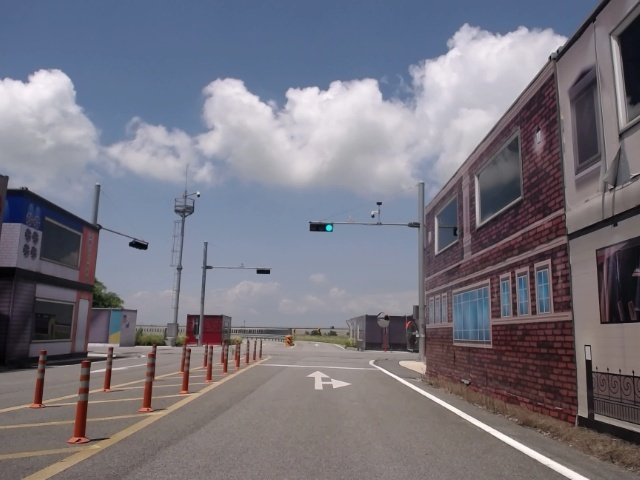green_3: (310, 225, 332, 232)
